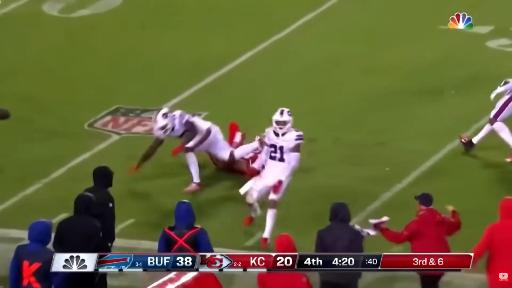Helmet: (272, 108, 293, 134), (153, 108, 172, 133)
Jersey: (263, 127, 303, 177), (154, 111, 211, 138)
Player: (132, 108, 265, 193), (241, 108, 303, 247), (460, 79, 511, 151), (207, 149, 262, 177)
